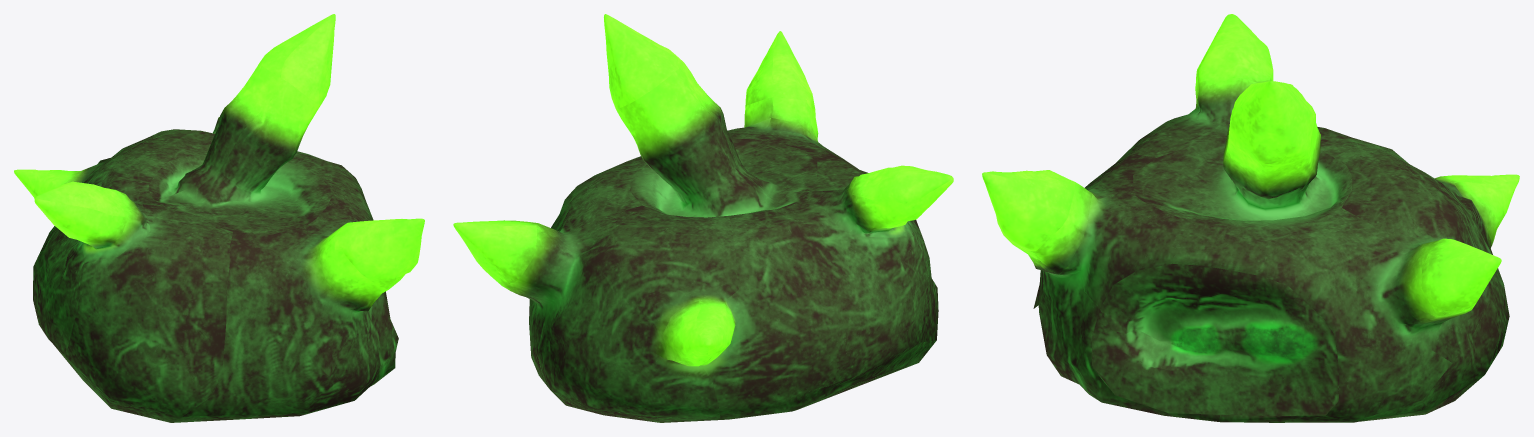
File: geigerrock.fbx
3 renders of one model, left to right at view 1: azimuth 30°, elevation 25°; view 2: azimuth 150°, elevation 25°; view 3: azimuth 270°, elevation 25°, orthographic. The views are drawn at different scales.
Parts seen in each view (by area): view 1: GeigerRockResource1; view 2: GeigerRockResource1; view 3: GeigerRockResource1.
Part boxes in pixels (x1=…): GeigerRockResource1: x1=14, y1=14, x2=424, y2=422; GeigerRockResource1: x1=453, y1=14, x2=953, y2=422; GeigerRockResource1: x1=982, y1=14, x2=1519, y2=422.
Bounding box in the file's own units: 4.98 × 4.06 × 5.73.
